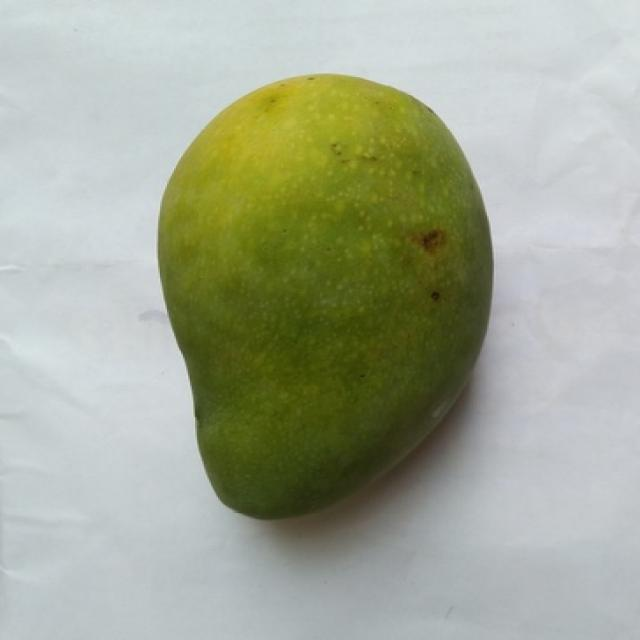Mango: (158, 74, 492, 519)
